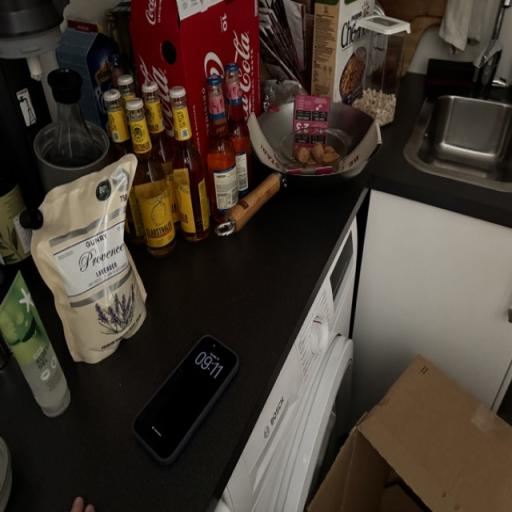phone: (137, 342, 269, 470)
